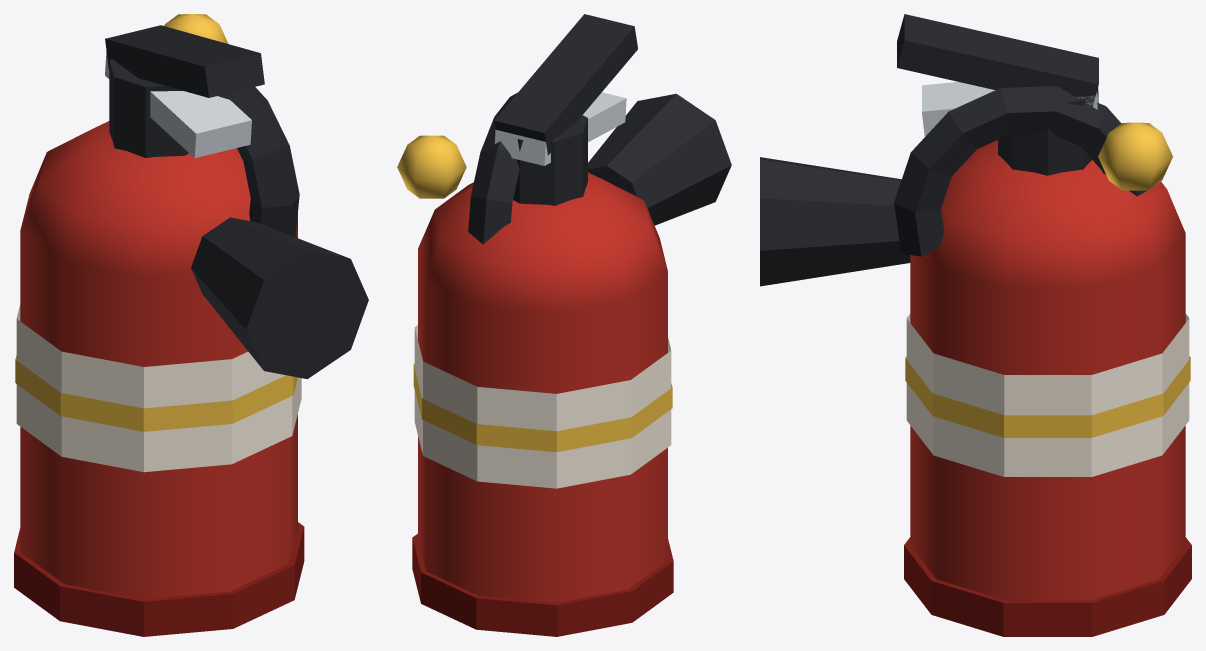
File: extinguisher.glb
The picture shows the model from 3 angles, left to right: view 1: azimuth 30°, elevation 25°; view 2: azimuth 150°, elevation 25°; view 3: azimuth 270°, elevation 25°; orthographic projection. The views are drawn at different scales.
Visible parts, largest first — view 1: ext; view 2: ext; view 3: ext.
Part boxes in pixels (bbox=[...]): ext: bbox=[14, 14, 368, 636]; ext: bbox=[397, 14, 731, 636]; ext: bbox=[760, 14, 1191, 636].
Bounding box in the file's own units: 0.2187 × 0.4865 × 0.345.
